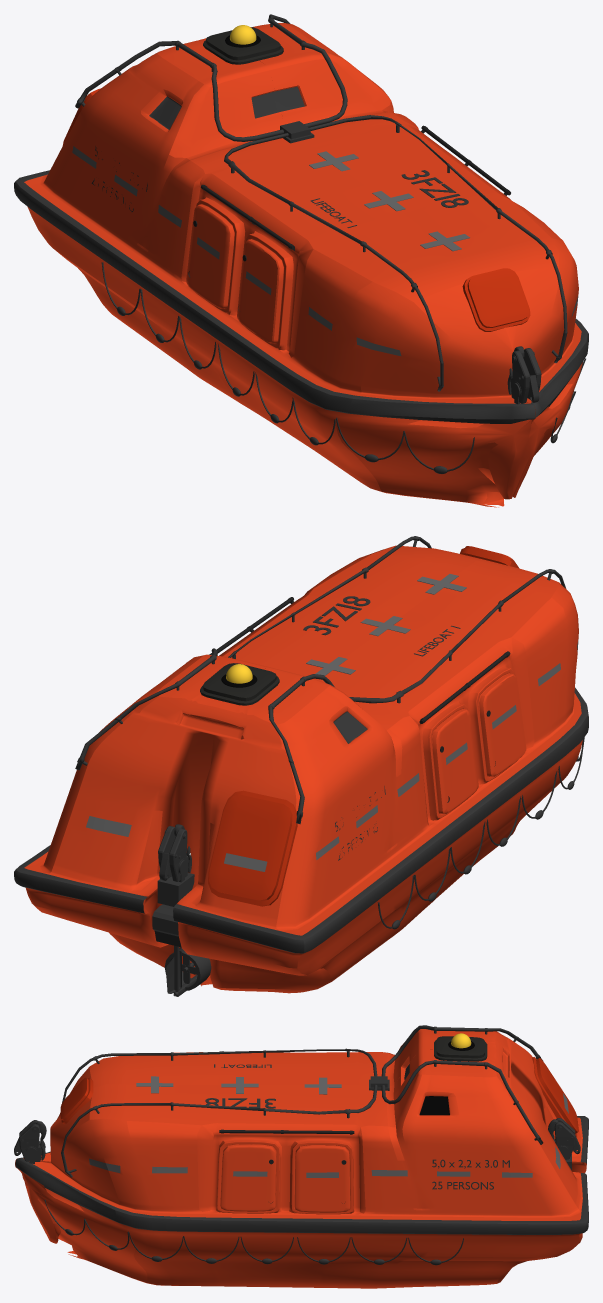
File: boat.glb
The picture shows the model from 3 angles, top to bottom: view 1: azimuth 30°, elevation 25°; view 2: azimuth 150°, elevation 25°; view 3: azimuth 270°, elevation 25°; orthographic projection. The views are drawn at different scales.
Parts seen in each view (by area): view 1: Body, Gunwail, Entrance Hatches, Sprinkler, Hatch, Lifeline, Mirrors, Cube.050, Release Hook, Reflective Tape, Callsign; view 2: Body, Gunwail, Entrance Hatches, Cube.047, Sprinkler, Propeller, Reflective Tape, Cube.050, Release Hook, Lifeline, Callsign, Cube.065 (+1 smaller); view 3: Body, Gunwail, Entrance Hatches, Sprinkler, Release Hook, Reflective Tape, Lifeline, Cube.047, Cube.050, Hatch, Mirrors, Cylinder.052 (+2 smaller).
Part boxes in pixels (box(x1,y1,x2,y2)): Body: box(24, 23, 582, 507); Gunwail: box(14, 170, 588, 423); Entrance Hatches: box(186, 152, 456, 347); Sprinkler: box(75, 14, 567, 391); Hatch: box(462, 268, 530, 331); Lifeline: box(101, 262, 585, 473); Mirrors: box(149, 86, 304, 129); Cube.050: box(203, 27, 283, 64); Release Hook: box(507, 346, 541, 404); Reflective Tape: box(72, 146, 578, 355); Callsign: box(310, 170, 468, 227); Body: box(24, 545, 582, 993); Gunwail: box(14, 687, 588, 953); Entrance Hatches: box(427, 669, 526, 819); Cube.047: box(208, 790, 297, 906); Sprinkler: box(75, 536, 566, 824); Propeller: box(152, 904, 211, 993); Reflective Tape: box(86, 641, 578, 871); Cube.050: box(200, 663, 279, 705); Release Hook: box(158, 824, 191, 882); Lifeline: box(377, 737, 584, 929); Callsign: box(303, 596, 460, 656); Cube.065: box(157, 873, 194, 906); Body: box(15, 1029, 586, 1288); Gunwail: box(15, 1116, 588, 1234); Entrance Hatches: box(217, 1141, 353, 1214); Sprinkler: box(61, 1025, 543, 1177); Release Hook: box(14, 1118, 580, 1163); Reflective Tape: box(89, 1093, 568, 1177); Lifeline: box(44, 1199, 463, 1265); Cube.047: box(532, 1057, 578, 1136); Cube.050: box(434, 1036, 487, 1061); Hatch: box(60, 1077, 93, 1124); Mirrors: box(404, 1064, 449, 1115); Cylinder.052: box(219, 1129, 354, 1134).
Bounding box in the file's own units: 2.13 × 2.16 × 4.77.
